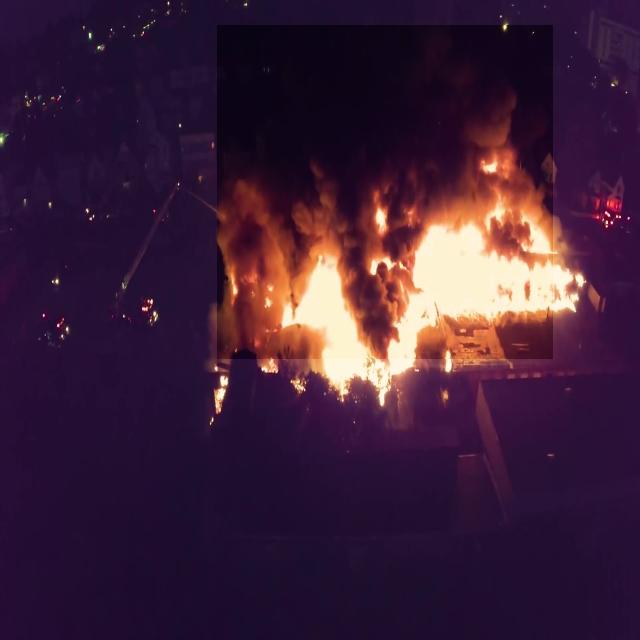Fire: (205, 163, 581, 415)
Smoke: (217, 25, 554, 359)
